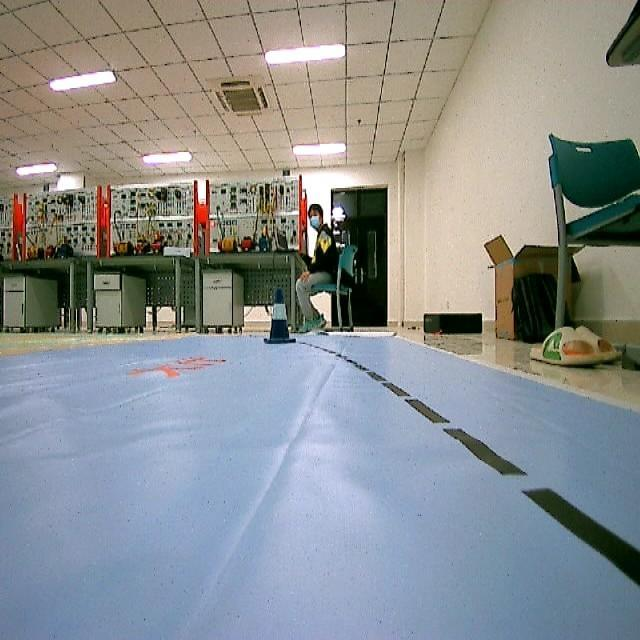obstacle: (267, 292, 294, 346)
